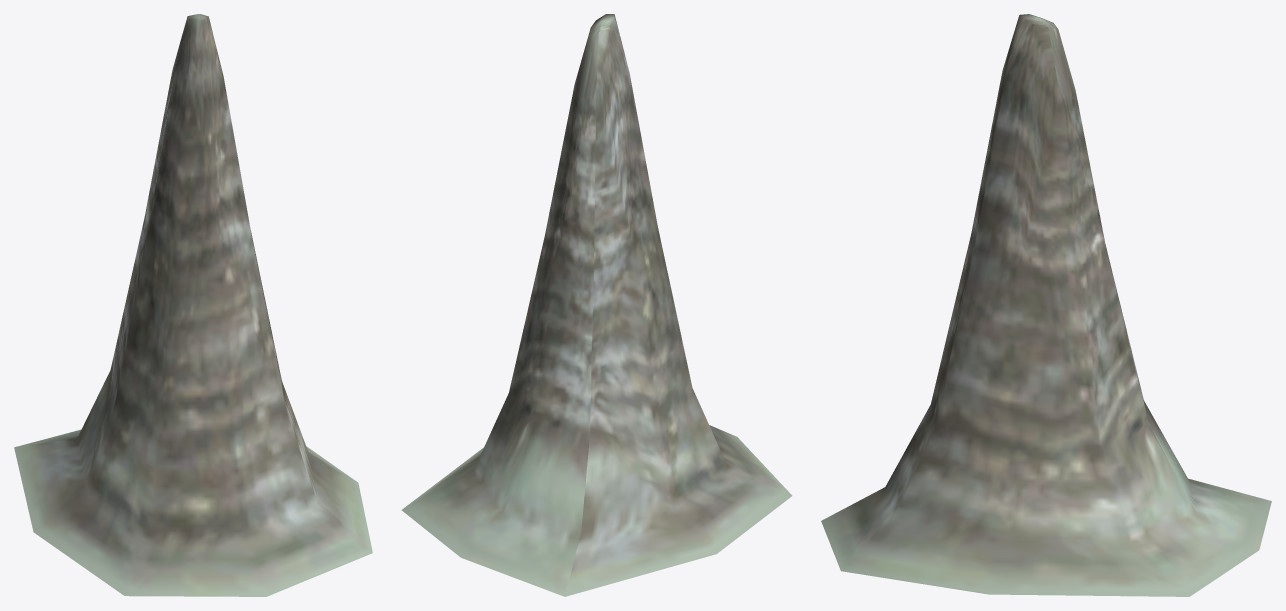
Rendered from TROLLHOLE02_PS-SECRETSTALAG19.fbx.
3 views of the same model, side by side, from view 1: azimuth 30°, elevation 25°; view 2: azimuth 150°, elevation 25°; view 3: azimuth 270°, elevation 25° (orthographic). The views are drawn at different scales.
Parts seen in each view (by area): view 1: TROLLHOLE02_PS-SECRETSTALAG19; view 2: TROLLHOLE02_PS-SECRETSTALAG19; view 3: TROLLHOLE02_PS-SECRETSTALAG19.
Part boxes in pixels (<box>): TROLLHOLE02_PS-SECRETSTALAG19: <box>14,14,372,596</box>; TROLLHOLE02_PS-SECRETSTALAG19: <box>401,14,792,596</box>; TROLLHOLE02_PS-SECRETSTALAG19: <box>821,14,1271,596</box>.
Size of the model in its own units: 22422 by 38944 by 30105.
Materials: 1 (1 with a texture image).
